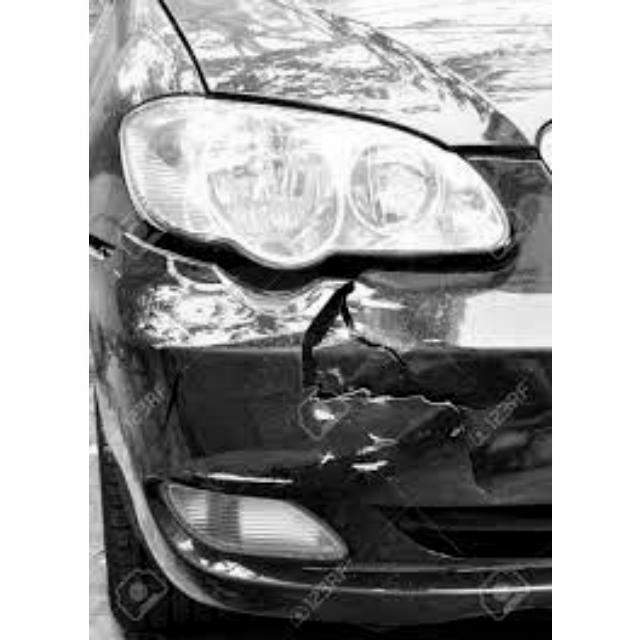front-bumper-dent: (94, 233, 549, 589)
